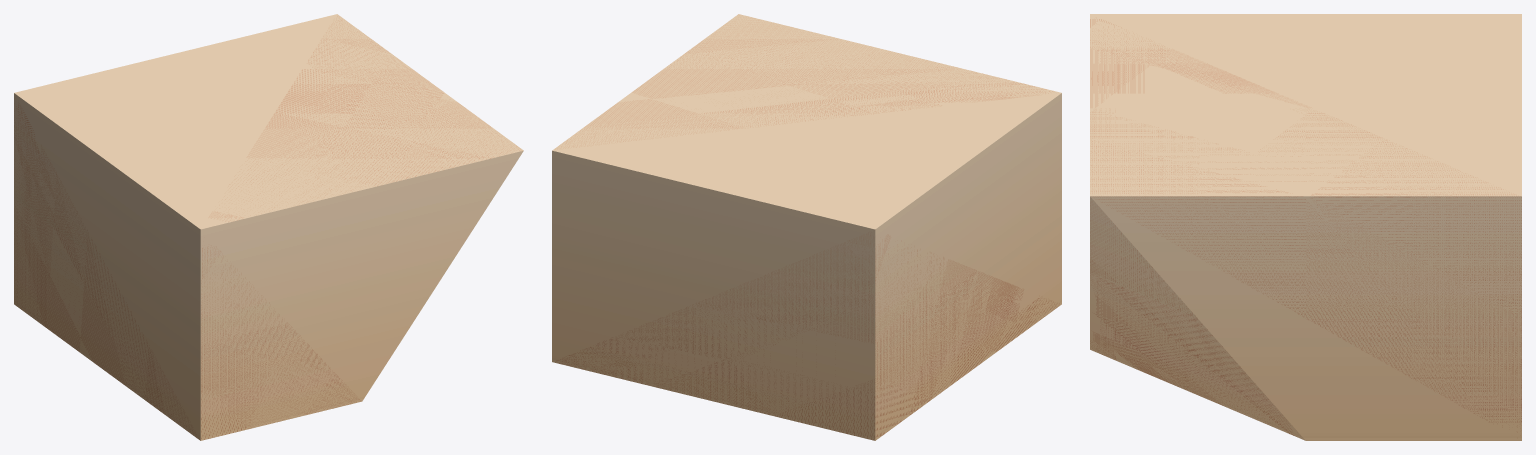
File: building-corner-bottom.glb
3 views of the same model, side by side, from view 1: azimuth 30°, elevation 25°; view 2: azimuth 150°, elevation 25°; view 3: azimuth 270°, elevation 25° (orthographic). The views are drawn at different scales.
Parts seen in each view (by area): view 1: building-corner-bottom; view 2: building-corner-bottom; view 3: building-corner-bottom.
Boxes of the visible parts, x1,y1,x2,y2 form: building-corner-bottom: (14, 14, 523, 440); building-corner-bottom: (552, 14, 1061, 440); building-corner-bottom: (1090, 14, 1521, 440).
Bounding box in the file's own units: 1 × 0.625 × 1.
1 material, 1 textured.
